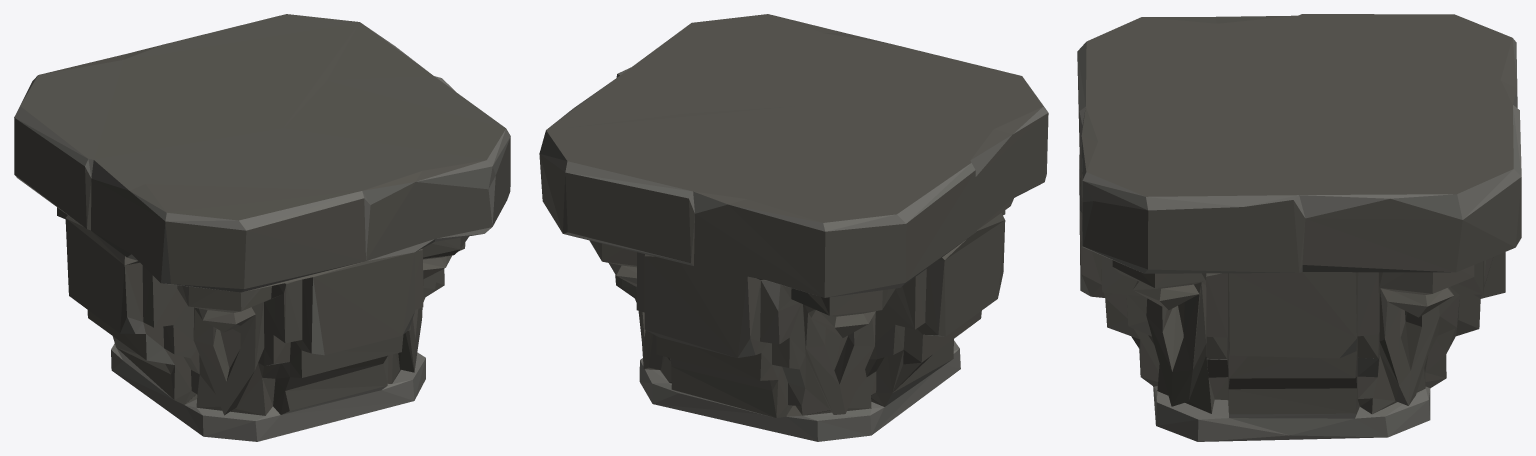
Rendered from MDungeon_PillarSmall_Top.FBX.
3 renders of one model, left to right at view 1: azimuth 30°, elevation 25°; view 2: azimuth 150°, elevation 25°; view 3: azimuth 270°, elevation 25°, orthographic. The views are drawn at different scales.
Visible parts, largest first — view 1: MDungeon_PillarSmall_Top_LOD0; view 2: MDungeon_PillarSmall_Top_LOD0; view 3: MDungeon_PillarSmall_Top_LOD0.
Boxes of the visible parts, bbox=[...] form: MDungeon_PillarSmall_Top_LOD0: bbox=[14, 14, 510, 441]; MDungeon_PillarSmall_Top_LOD0: bbox=[539, 14, 1048, 441]; MDungeon_PillarSmall_Top_LOD0: bbox=[1077, 14, 1521, 441].
Size of what is drawn, in the model's own units: 2.88 by 1.98 by 2.88.
